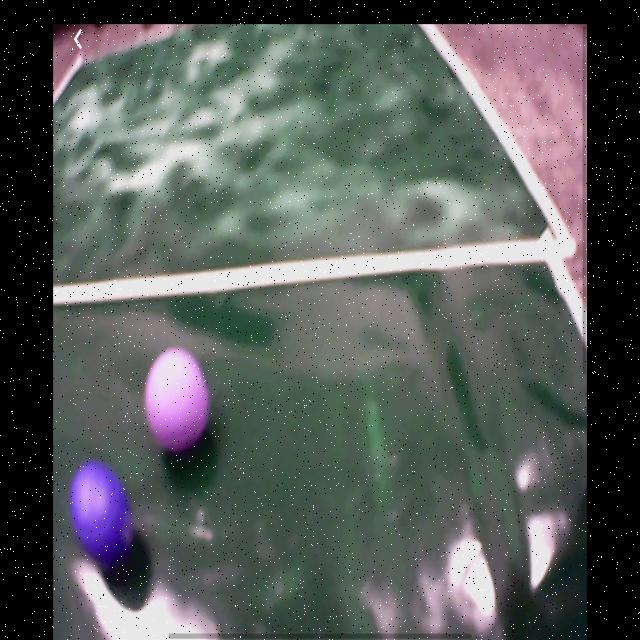ball: (142, 346, 210, 455), (70, 461, 136, 564)
